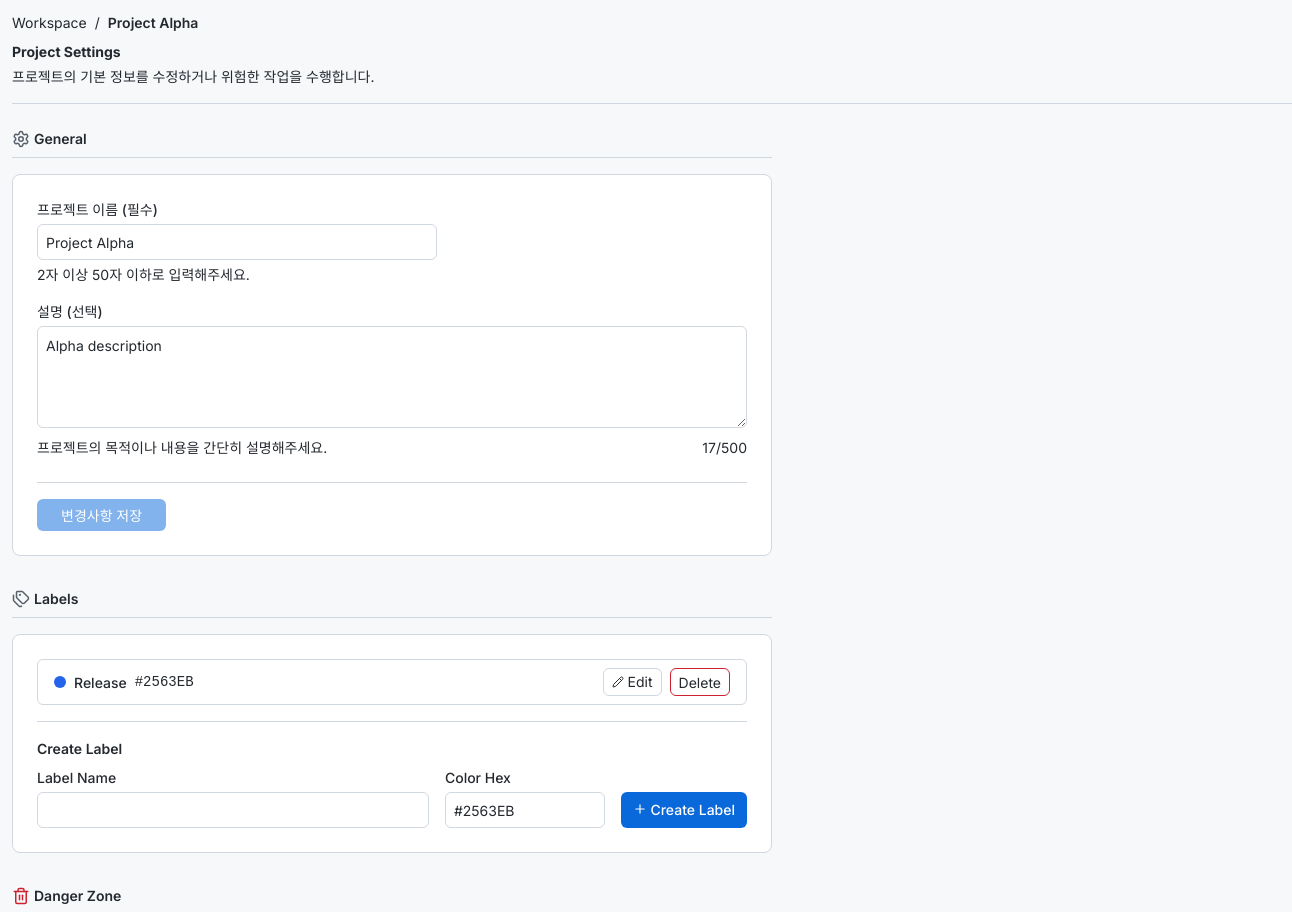
ProjectSettingsPage › creates, updates, and deletes labels from project settings
This screenshot has width=1292, height=912.
expect the text "Release" is shown: met, box [74,672,127,692]
Step 1. Click the button with aria-label "Edit label Release" → (632,682), box [603,668,662,696]
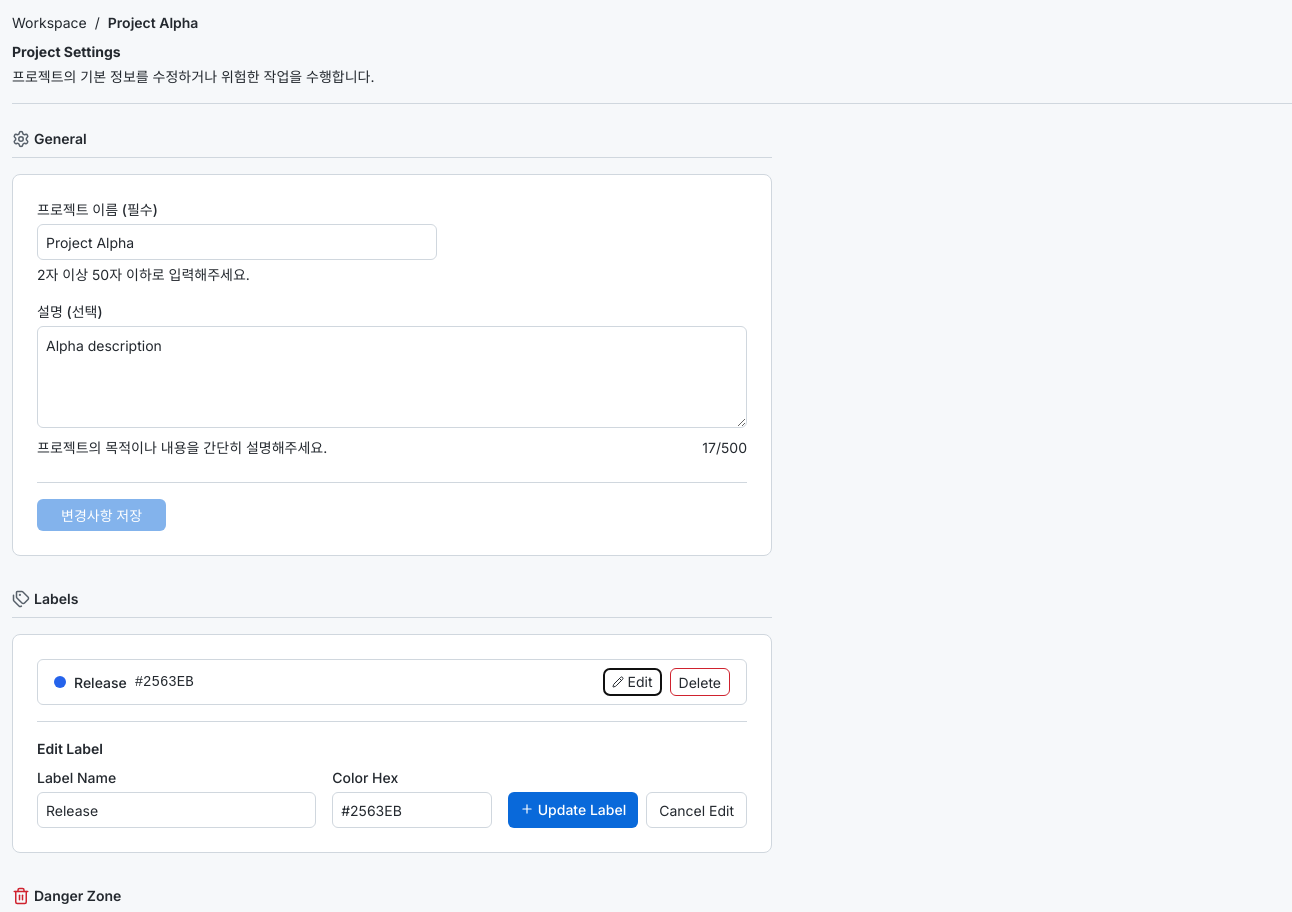
Step 2. Replace the text in the field labelled "Label Name" with "Urgent" → (177,810), box [37,792,316,828]
Step 3. Replace the text in the field labelled "Color Hex" with "#EF4444" → (412,810), box [332,792,492,828]
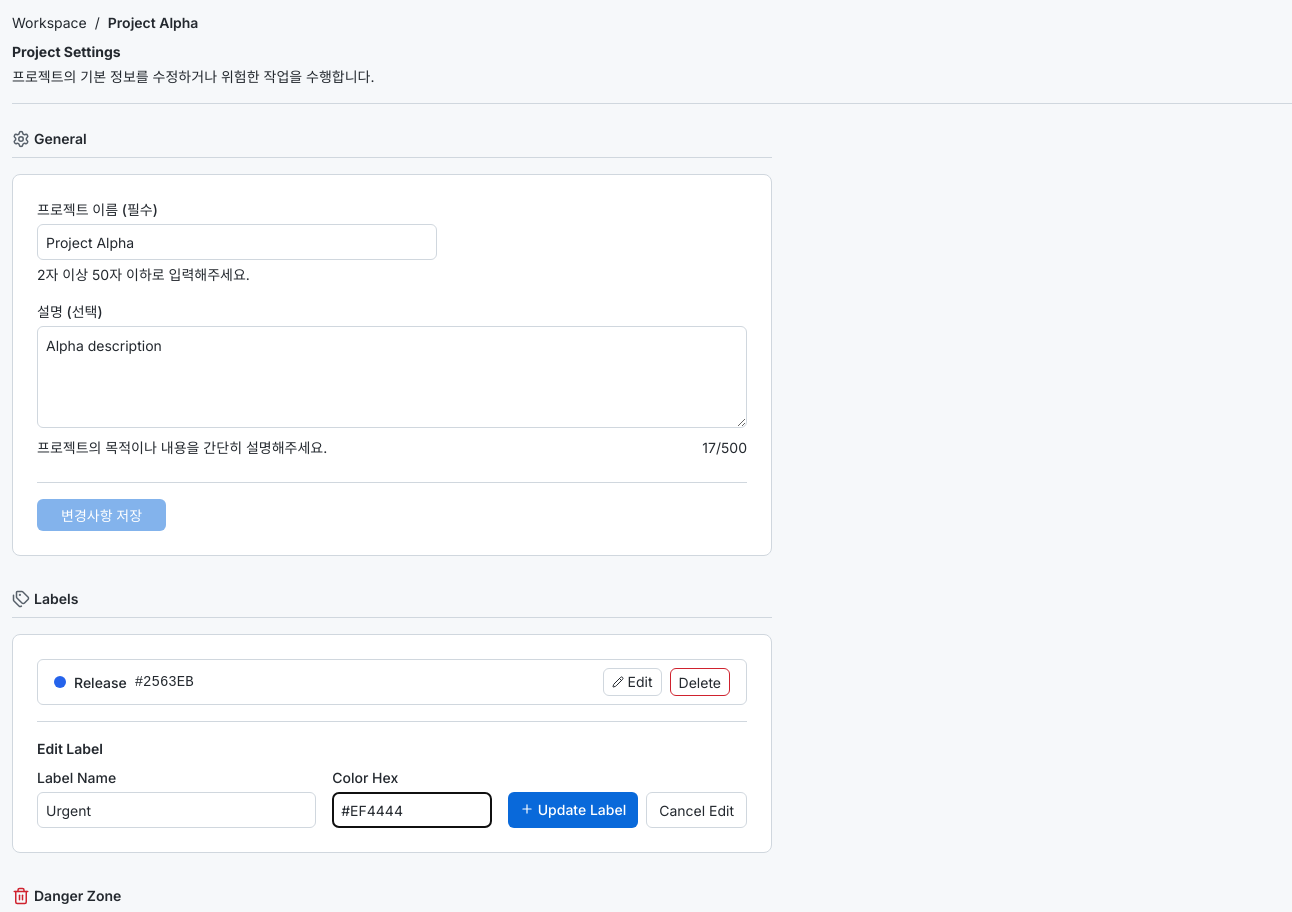
Step 4. Click the button "Update Label" → (573,810), box [508,792,638,828]
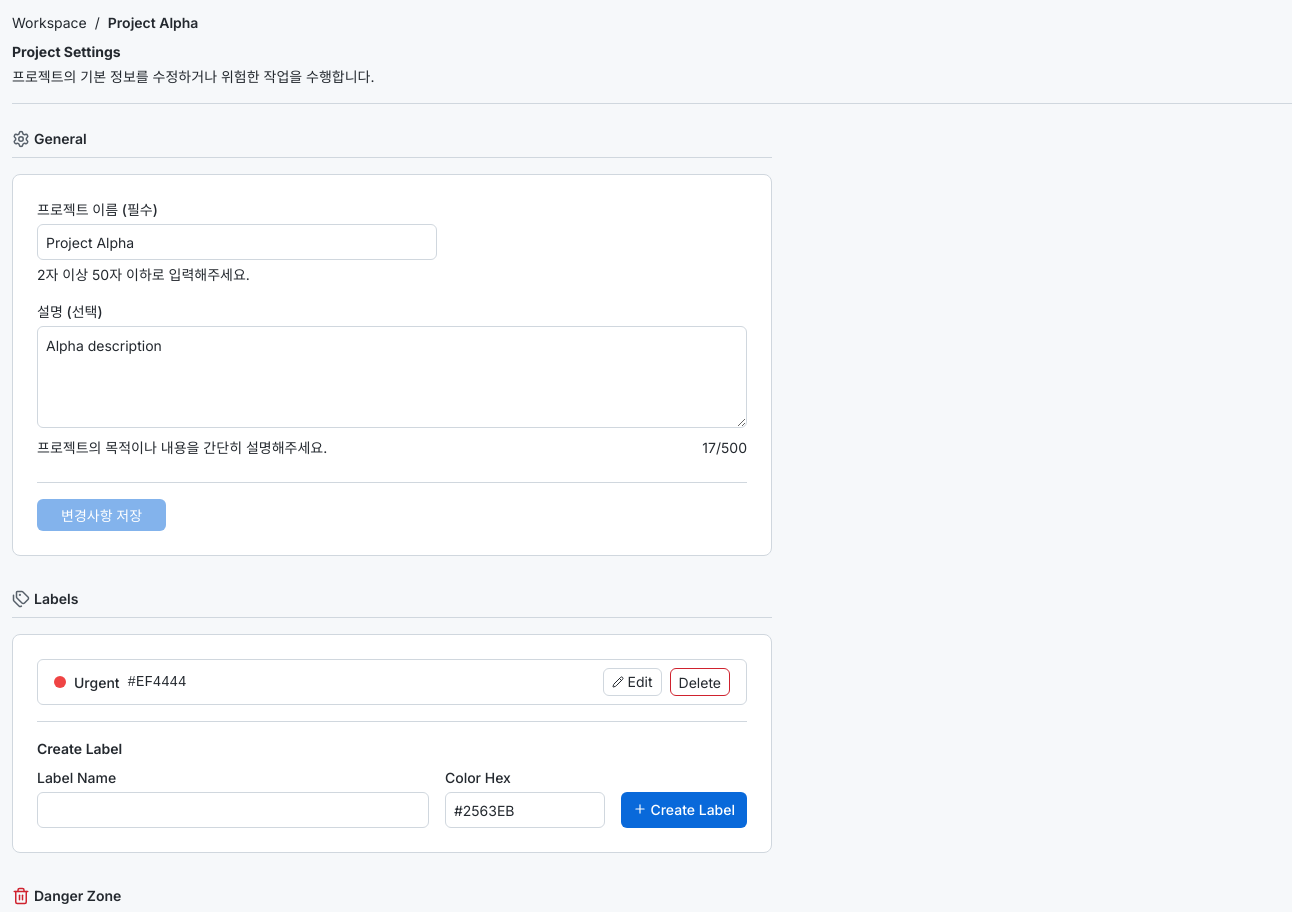
expect the text "Urgent" is shown: met, box [74,672,120,692]
Step 5. Type "Backend" into the field labelled "Label Name" → (233,810), box [37,792,429,828]
Step 6. Replace the text in the field labelled "Color Hex" with "#10B981" → (525,810), box [445,792,605,828]
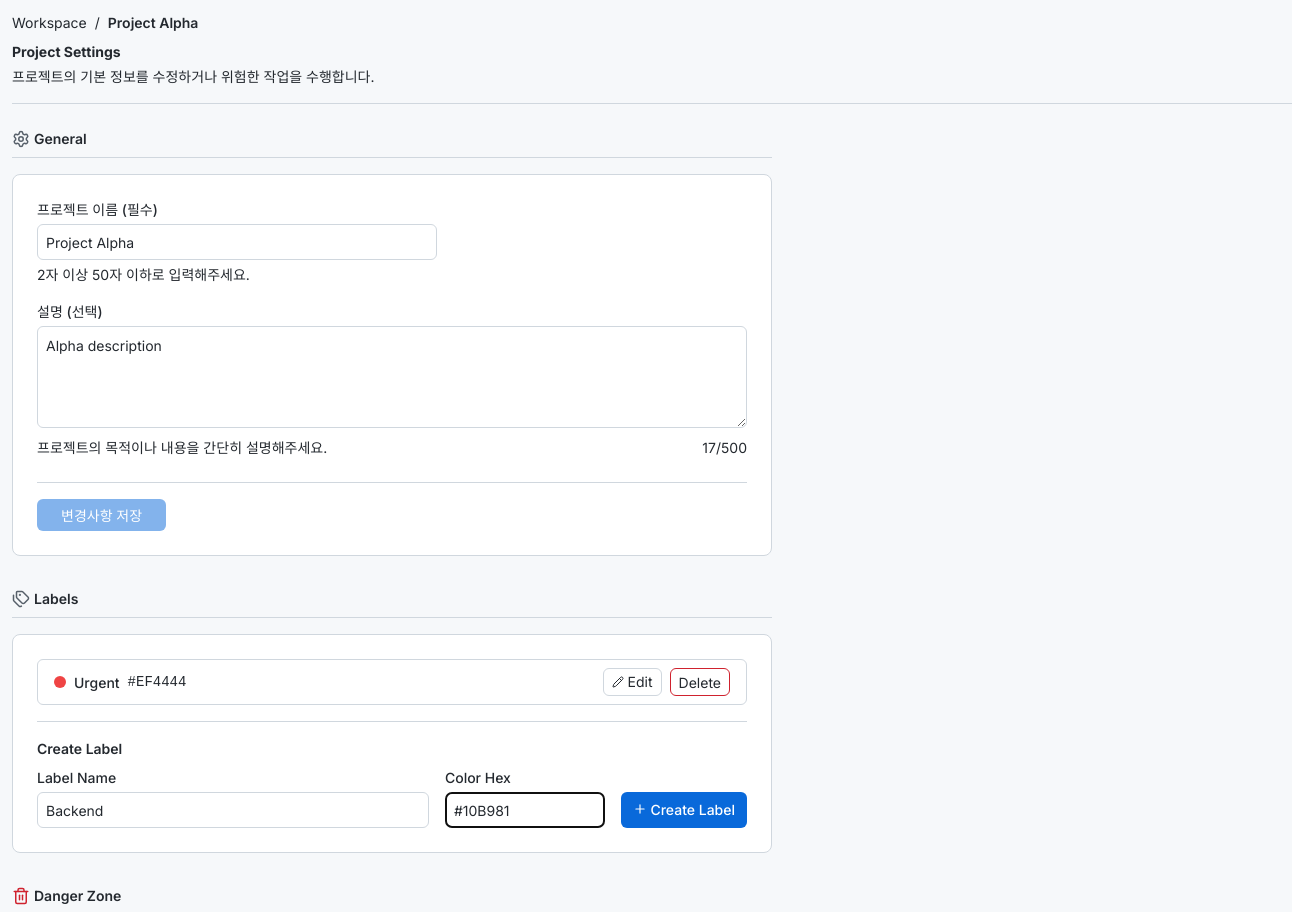
Step 7. Click the button "Create Label" → (684,810), box [621,792,747,828]
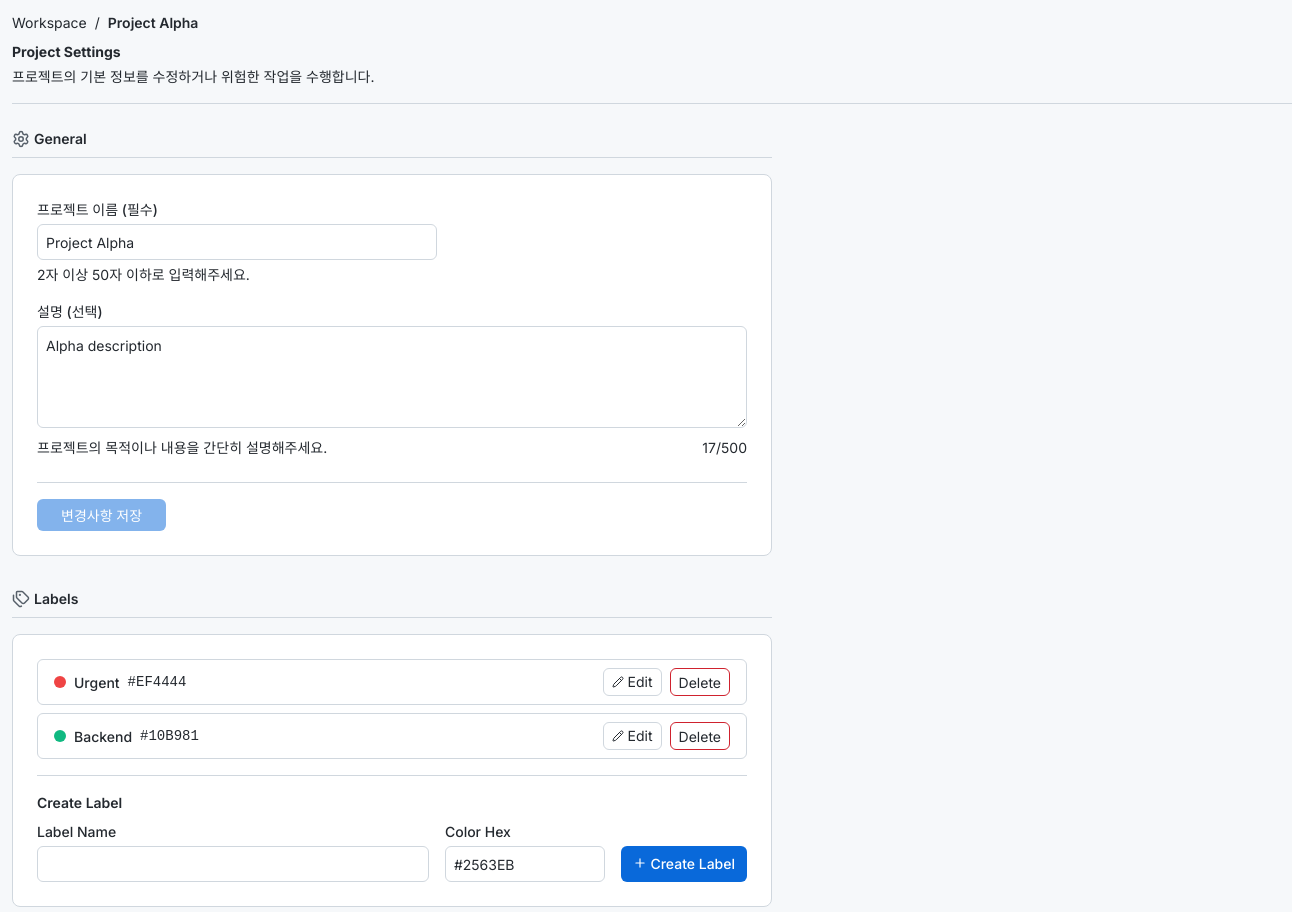
expect the text "Backend" is shown: met, box [74,726,132,746]
Step 8. Click the button with aria-label "Delete label Backend" → (700,736), box [670,722,730,750]
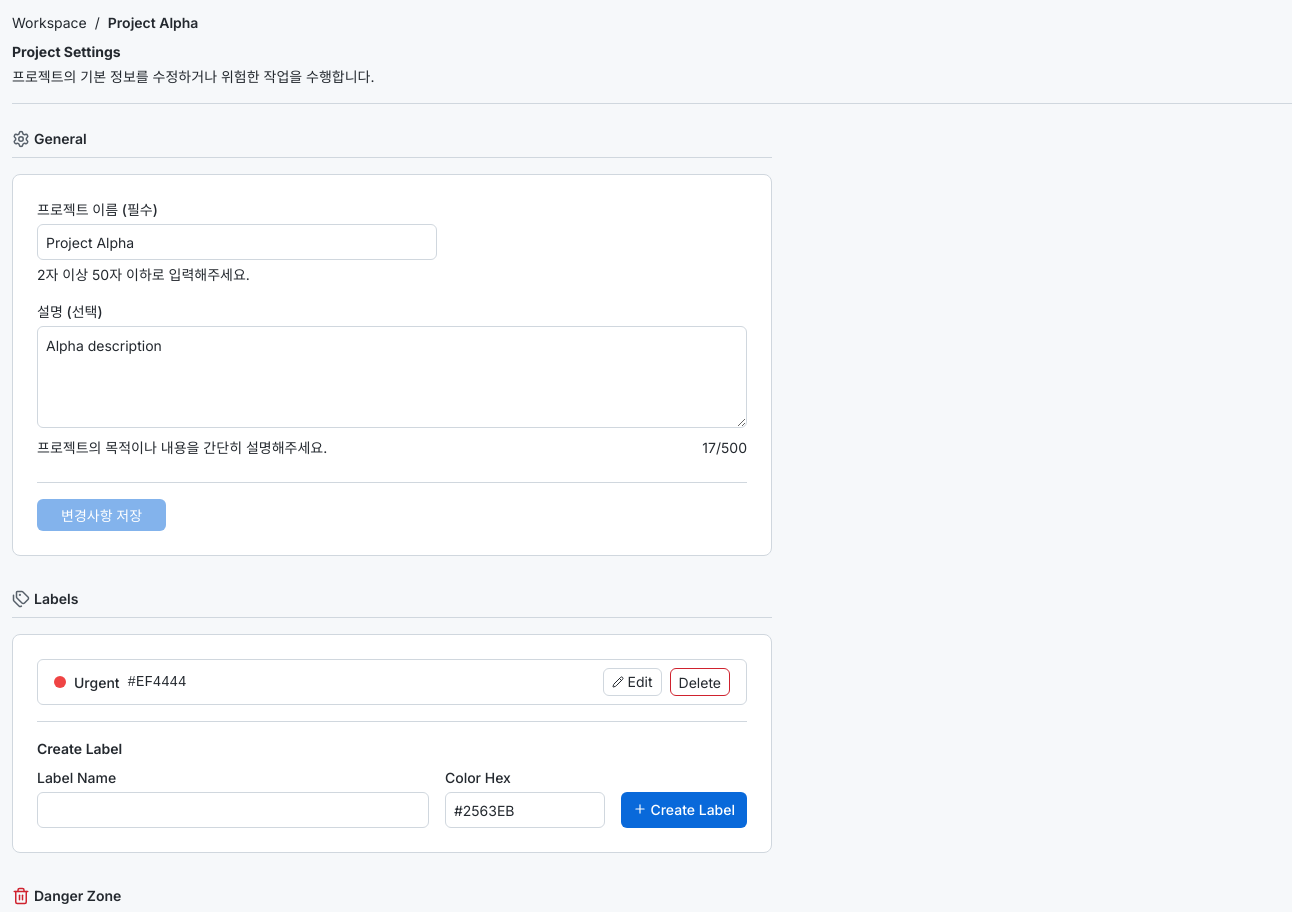
expect the text "Backend" is gone: met
